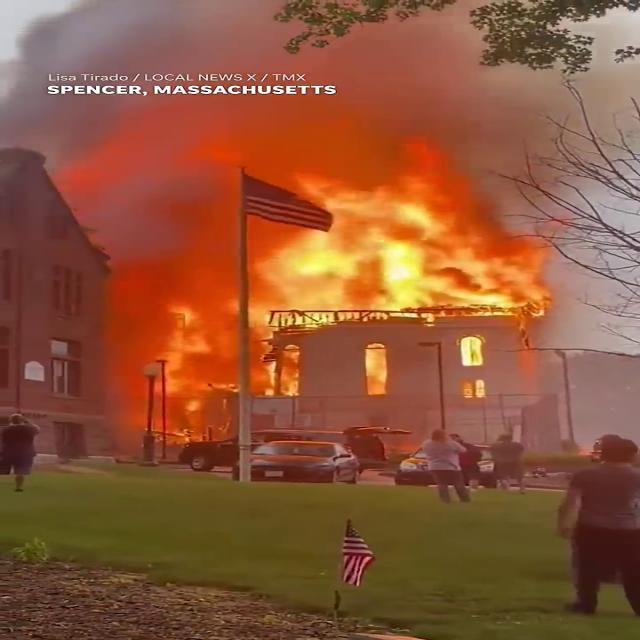Fire: (213, 169, 555, 349), (103, 291, 231, 415)
Smoke: (0, 0, 640, 187)
